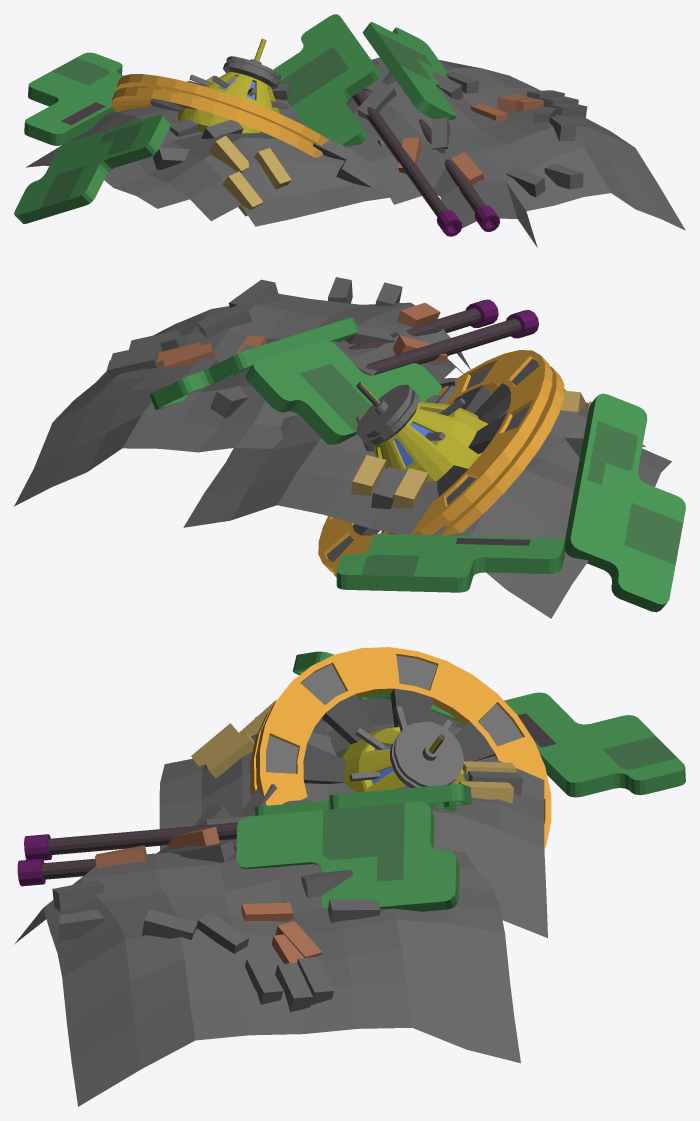
The model's file is ShipWreck.fbx.
3 renders of one model, top to bottom at view 1: azimuth 30°, elevation 25°; view 2: azimuth 150°, elevation 25°; view 3: azimuth 270°, elevation 25°, orthographic. The views are drawn at different scales.
Parts seen in each view (by area): view 1: ShipWreck; view 2: ShipWreck; view 3: ShipWreck.
Boxes of the visible parts, x1,y1,x2,y2 form: ShipWreck: (14, 14, 685, 247); ShipWreck: (14, 277, 685, 618); ShipWreck: (14, 647, 685, 1106).
Size of the model in its own units: 6.26 by 1.89 by 5.42.
